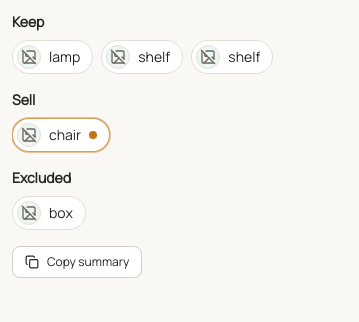
Test case: ConfirmedChoicesSummary › a failed copy shows the generic message and changes nothing
Step 1. Click the button "Copy summary" → (77,262), box [12, 246, 142, 278]
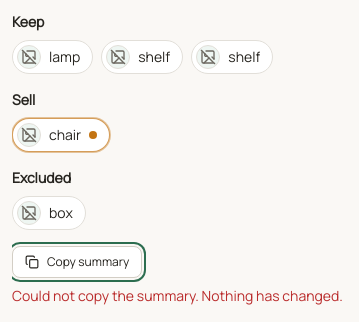
Check: the number of list items is 5, box [12, 40, 93, 74]; [101, 40, 183, 74]; [191, 40, 273, 74]; [12, 118, 110, 152]; [12, 196, 86, 230]
Check: the text "Could not copy the summary. Nothing has changed." is shown, box [12, 286, 343, 305]
